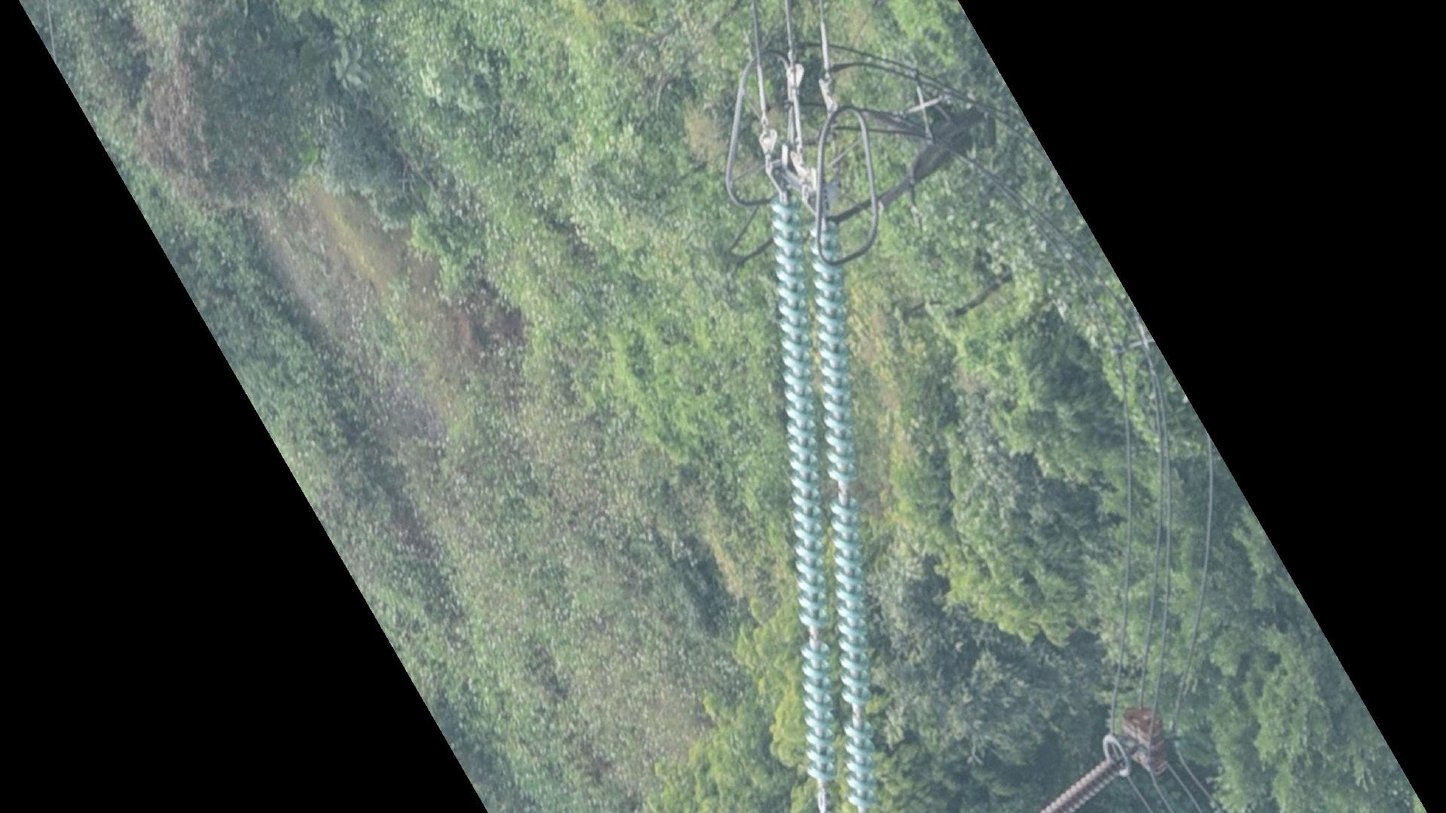insulator: (764, 196, 886, 813), (1042, 754, 1124, 813)
insulator_stringdrop: (840, 684, 877, 743), (797, 605, 831, 663), (826, 462, 860, 520)
